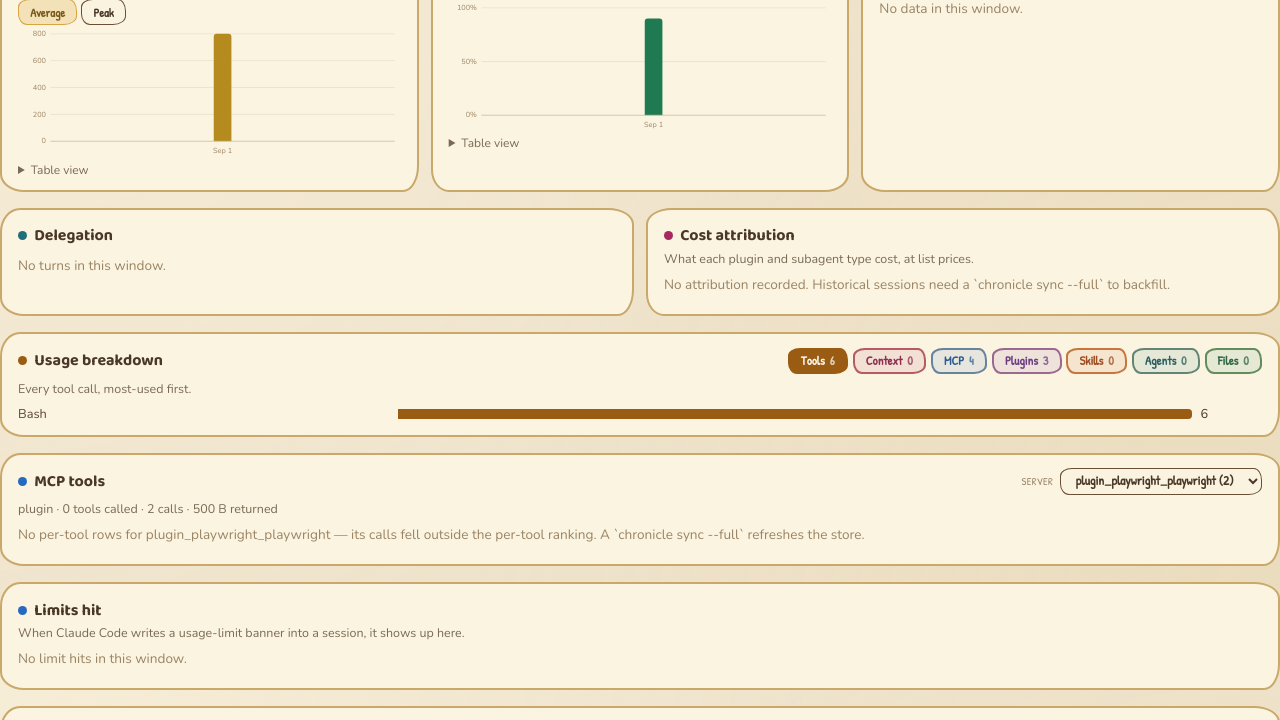
Scenario: <ChroniclePage/> › puts tools, MCP and plugins behind one usage callout
(page scrolled)
expect the heading "Usage breakdown" is shown: met, box [18,348,163,373]
expect the text "Bash" is shown: met, box [18,405,47,423]
Click the button "MCP 4" at (959, 361), box [931,348,987,374]
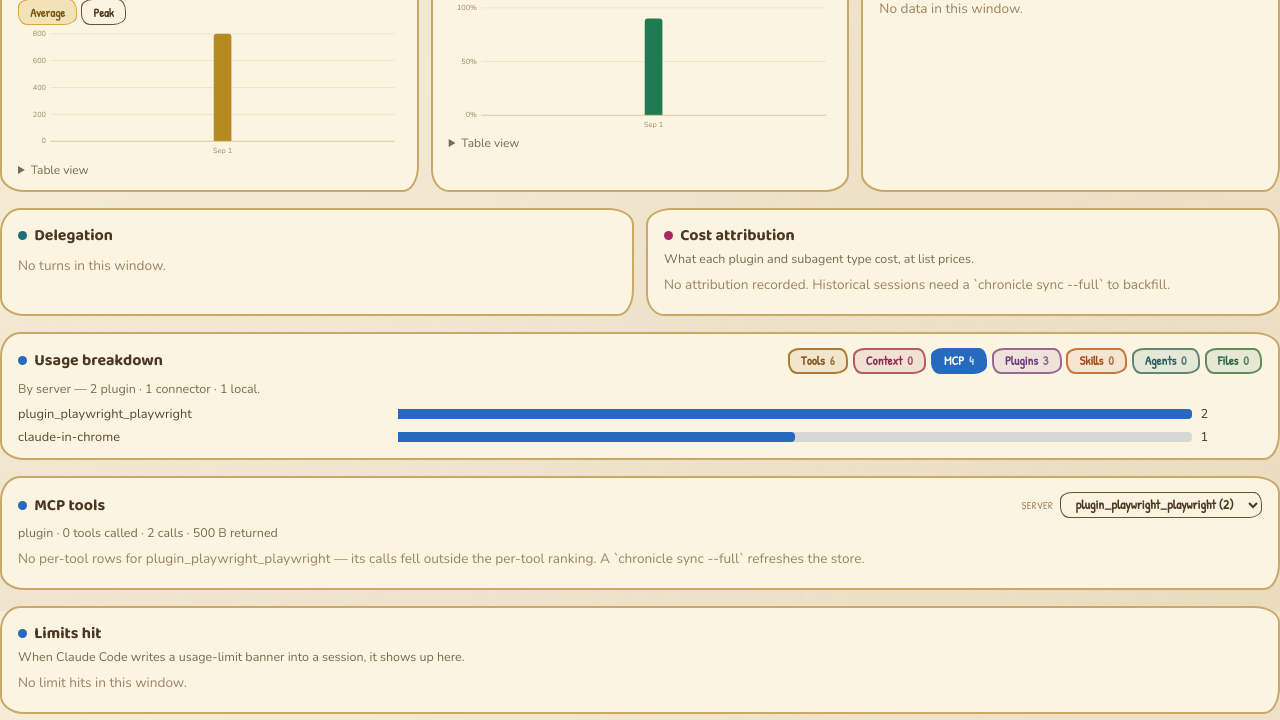
expect the text "plugin_playwright_playwright" is shown: met, box [18,405,192,423]
Click the button "Plugins 3" at (1027, 361), box [992,348,1062,374]
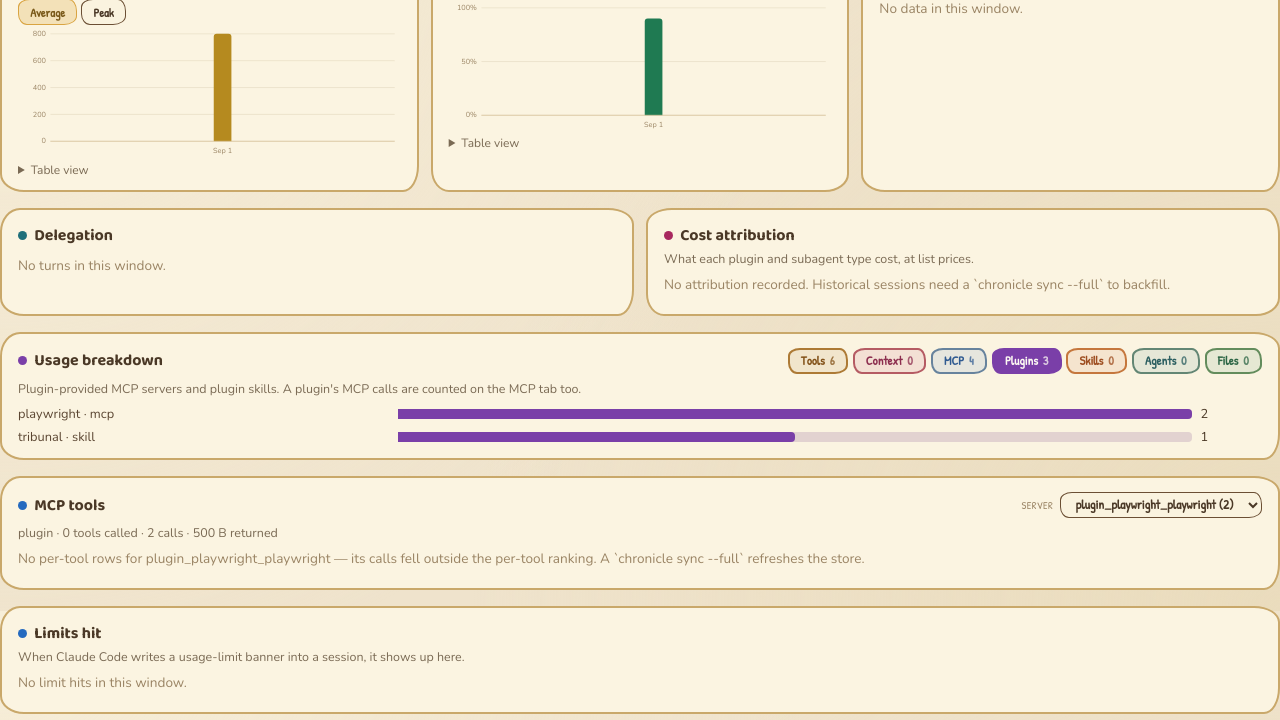
expect the text "playwright · mcp" is shown: met, box [18,405,114,423]
expect the text "tribunal · skill" is shown: met, box [18,428,95,446]
